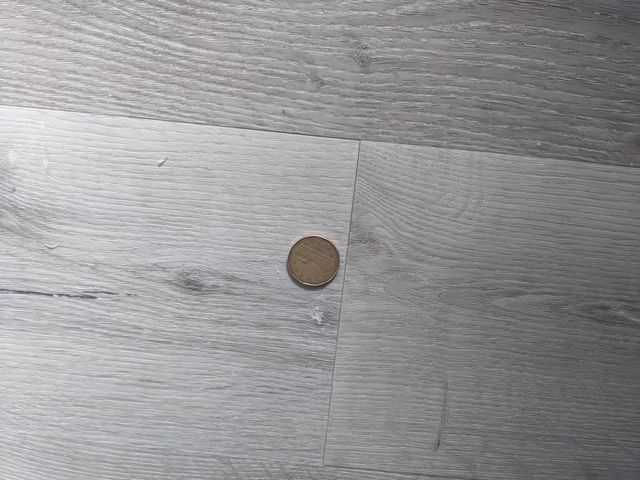loonie: (281, 236, 345, 287)
